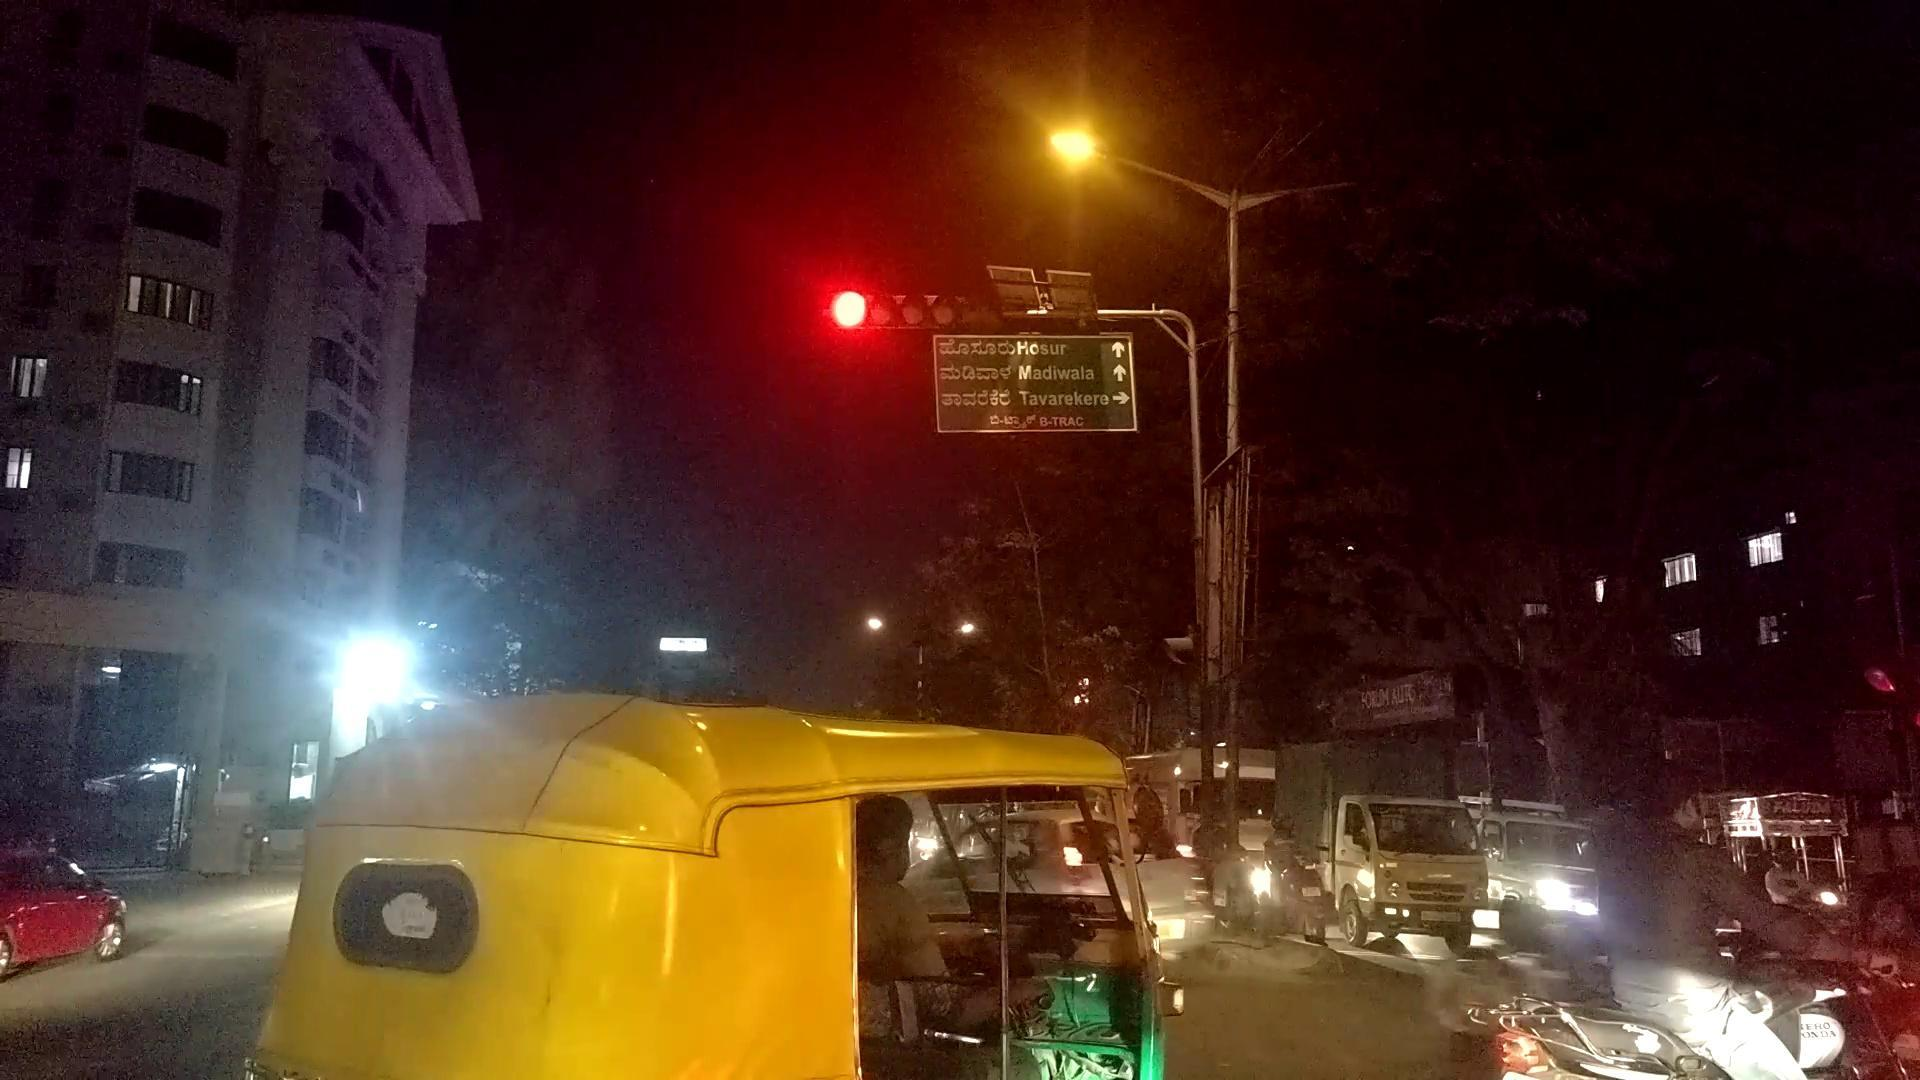on: (940, 12, 1358, 411)
